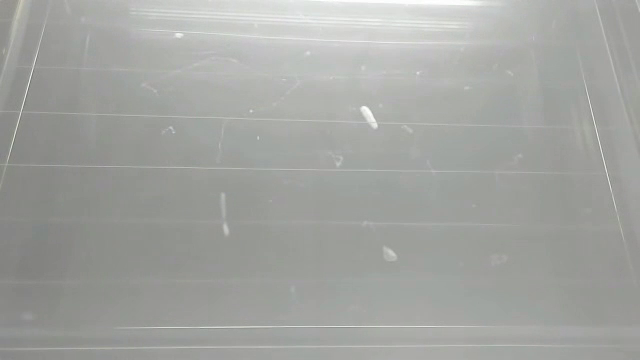alpha: (217, 189, 241, 241), (355, 102, 381, 133), (380, 243, 400, 265), (166, 30, 188, 42)
